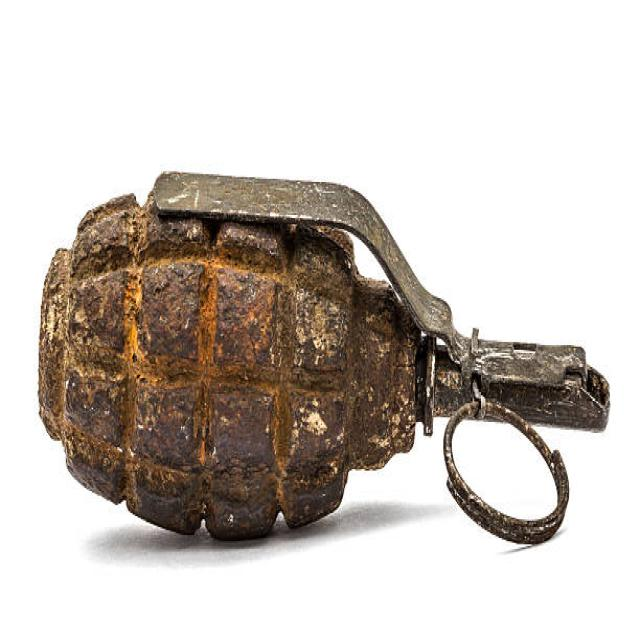grenade: (27, 148, 615, 569)
